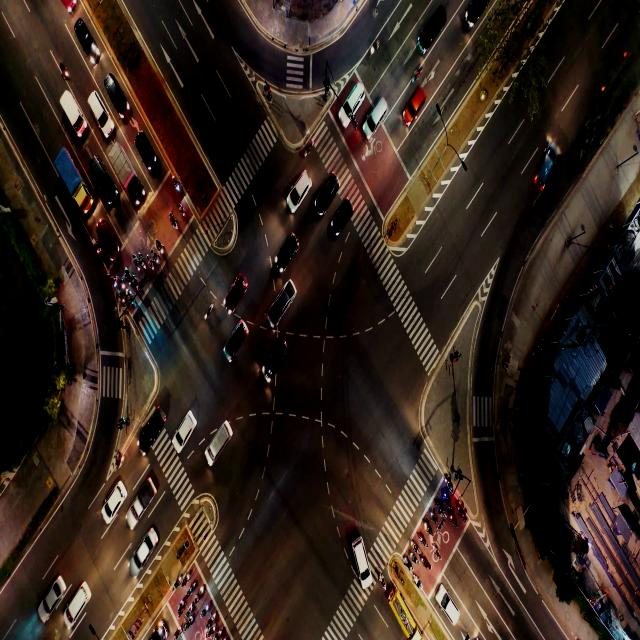bus: (398, 608, 412, 639)
car: (534, 144, 558, 192), (417, 12, 445, 51), (134, 528, 154, 576), (141, 411, 165, 449), (332, 194, 352, 237), (209, 421, 232, 457), (69, 584, 90, 623), (366, 101, 388, 137), (403, 88, 425, 123), (105, 473, 122, 516), (42, 578, 63, 612), (224, 273, 246, 305), (266, 341, 285, 375), (318, 178, 338, 210), (74, 21, 96, 50), (274, 285, 292, 319), (109, 81, 128, 112), (355, 547, 373, 579), (228, 325, 251, 350), (345, 84, 360, 122), (276, 239, 295, 268), (292, 178, 310, 207), (176, 412, 192, 444), (442, 587, 458, 616), (100, 226, 116, 253), (140, 141, 158, 164), (94, 104, 110, 129), (95, 166, 109, 188)
motorcycle: (114, 451, 125, 470), (411, 67, 421, 83), (371, 39, 379, 58), (305, 141, 314, 157), (169, 214, 178, 230), (132, 256, 141, 272), (108, 276, 118, 290), (206, 303, 214, 320), (431, 512, 439, 528), (425, 520, 433, 536), (125, 269, 133, 285), (157, 240, 166, 254), (437, 502, 445, 517), (420, 532, 428, 546), (125, 286, 132, 302), (188, 580, 196, 594), (178, 598, 184, 616), (133, 277, 140, 292), (458, 506, 466, 519), (148, 258, 156, 271), (151, 250, 158, 264), (139, 254, 146, 268), (198, 583, 204, 599), (180, 204, 187, 217), (423, 555, 429, 570), (415, 573, 421, 588), (450, 511, 456, 525), (202, 604, 208, 618), (446, 476, 452, 489), (187, 603, 193, 616), (186, 617, 192, 630), (208, 626, 214, 639), (173, 178, 179, 190), (94, 240, 100, 252), (174, 578, 180, 590), (216, 627, 222, 639), (120, 292, 125, 306), (120, 278, 126, 289), (414, 540, 419, 553), (407, 557, 412, 570), (445, 492, 450, 504), (184, 574, 190, 584), (175, 626, 180, 638), (210, 612, 215, 624), (434, 543, 438, 556), (381, 575, 385, 587), (414, 554, 418, 564)
truck: (134, 486, 153, 512), (64, 95, 78, 125), (63, 160, 76, 192), (120, 154, 132, 184)
